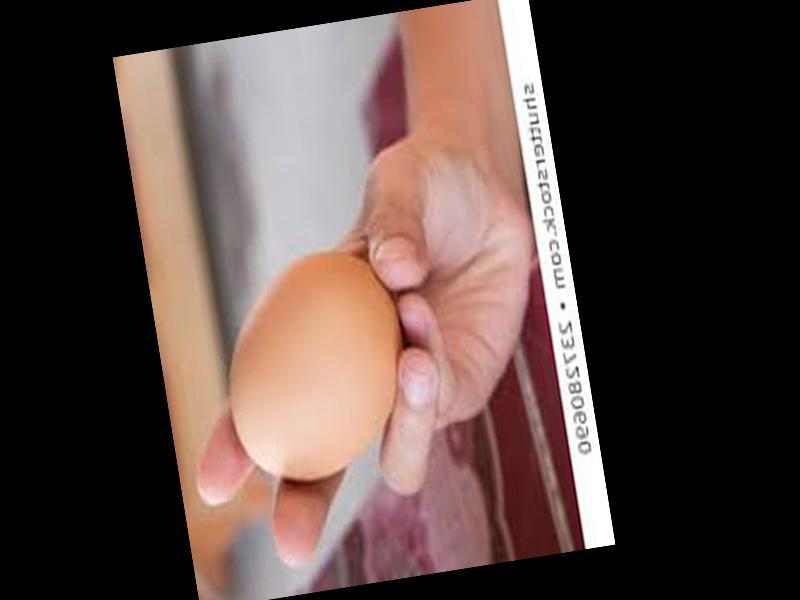Eggs: (211, 245, 420, 493)
